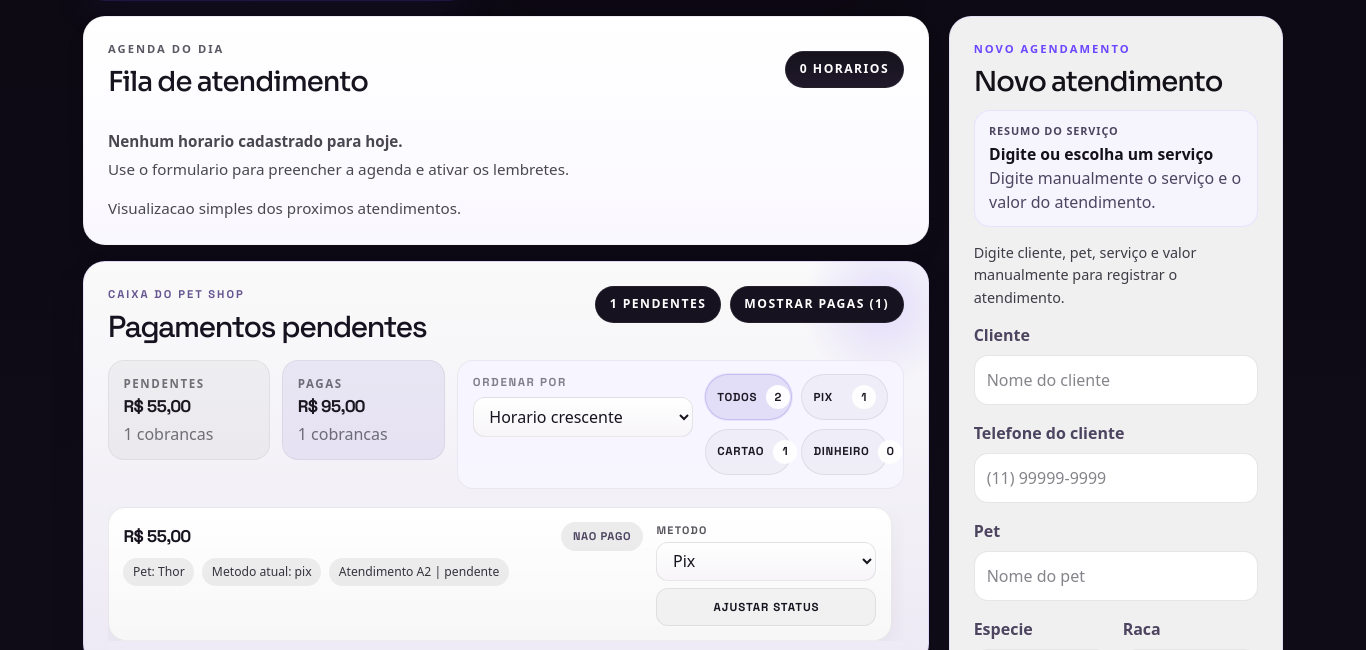
it: App finance interactions › filtra cobrancas por metodo de pagamento
This screenshot has width=1366, height=650.
(page scrolled)
expect the text "Pet: Thor" is shown: met, box [123,558,194,586]
Click the button "Mostrar pagas (1)".
click(817, 304)  # box [730,286,904,323]
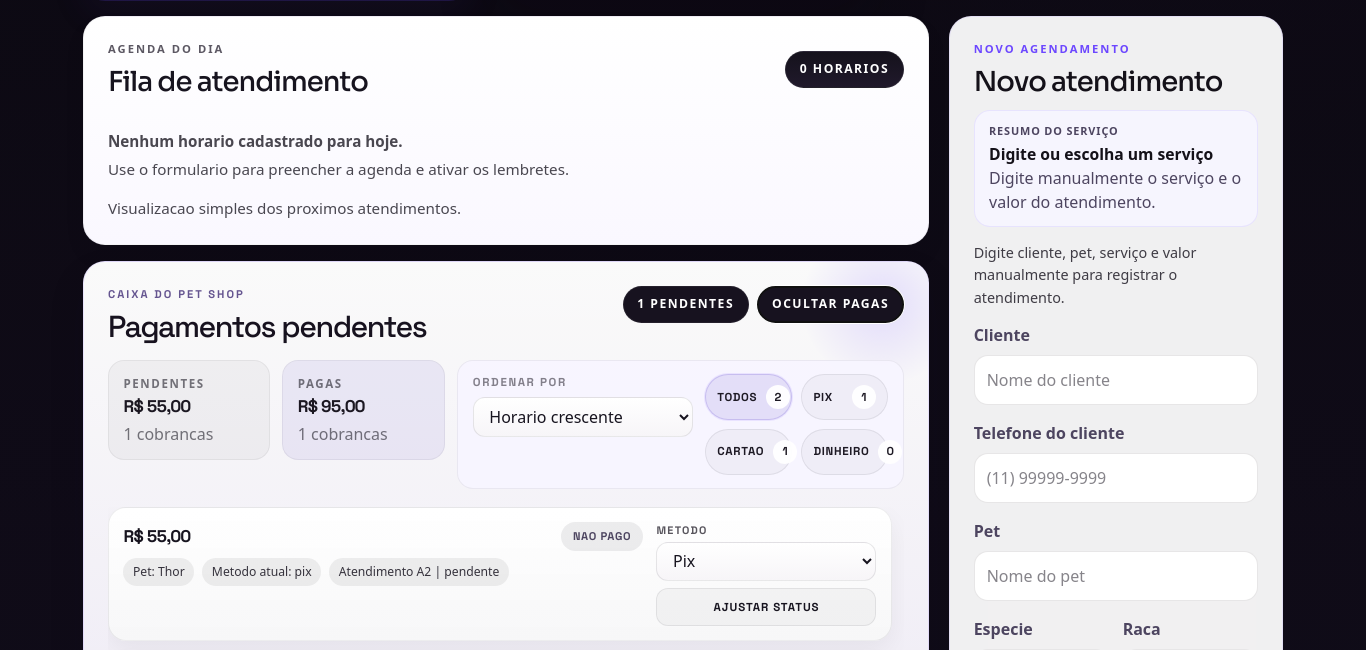
Click the button "Cartao 1".
click(748, 452)  # box [705,429,792,475]
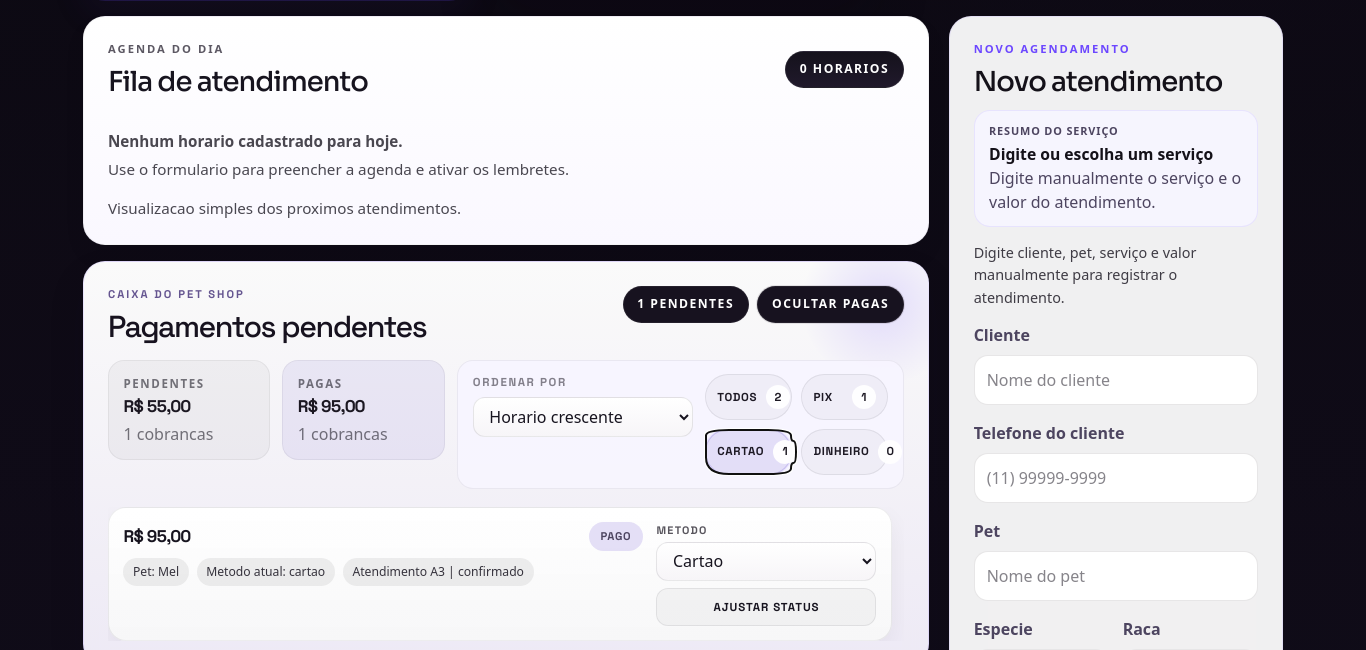
expect the text "Pet: Mel" is shown: met, box [123,558,189,586]
expect the text "Pet: Thor" is gone: met
